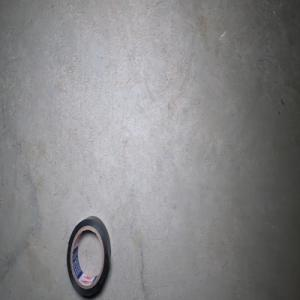Tape: (66, 215, 110, 298)
